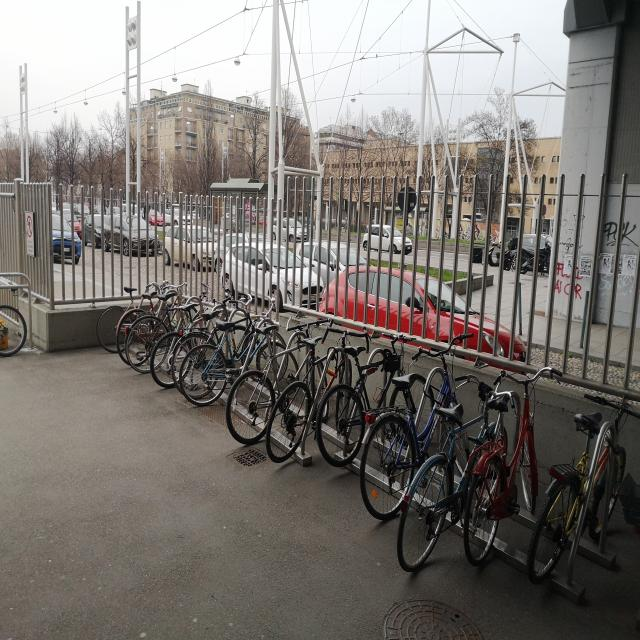Bicycle: (463, 354, 575, 567), (548, 365, 640, 593), (411, 363, 493, 587), (366, 337, 464, 512), (231, 311, 335, 464), (274, 308, 364, 480), (325, 324, 421, 474), (180, 292, 274, 408), (198, 302, 290, 400), (164, 268, 232, 383), (70, 268, 159, 353), (114, 279, 208, 356), (180, 282, 252, 377), (128, 285, 193, 368)
